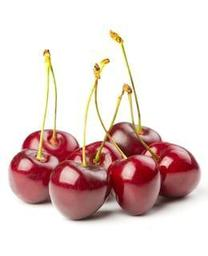cherry: (49, 159, 111, 222), (143, 142, 201, 199), (105, 122, 161, 178), (106, 159, 161, 216), (21, 129, 80, 182), (9, 149, 59, 205), (70, 140, 121, 193)
